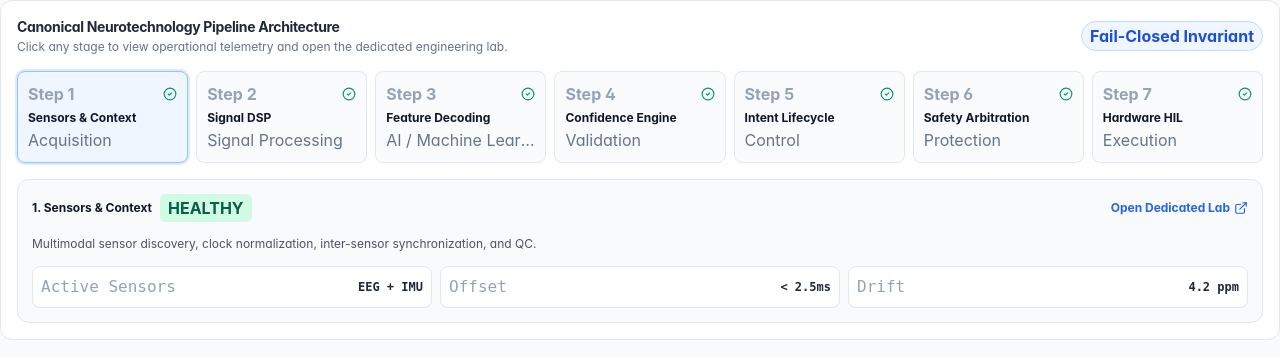
Phase 24.1 Competition Product Frontend Components › PipelineOverview Stage Switching › updates drawer content when switching from Sensors to Safety Arbitration
The image size is (1280, 357).
Click the text "Safety Arbitration" at (977, 118), box [924,110,1029,125]
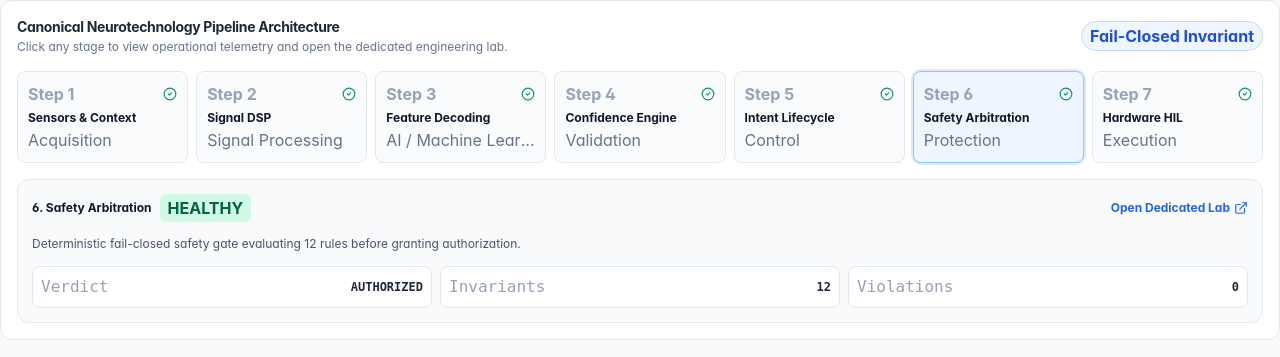
Now the text "Deterministic fail-closed safety gate" is shown, box [32,236,521,251]
